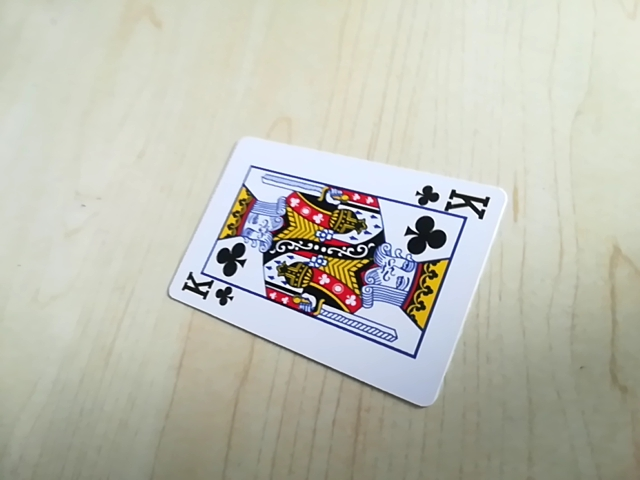mh k: (414, 184, 495, 216), (177, 274, 236, 308)
